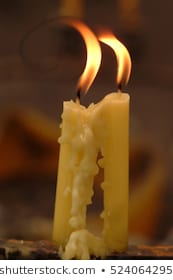Fire: (66, 15, 106, 100), (95, 28, 139, 89)
